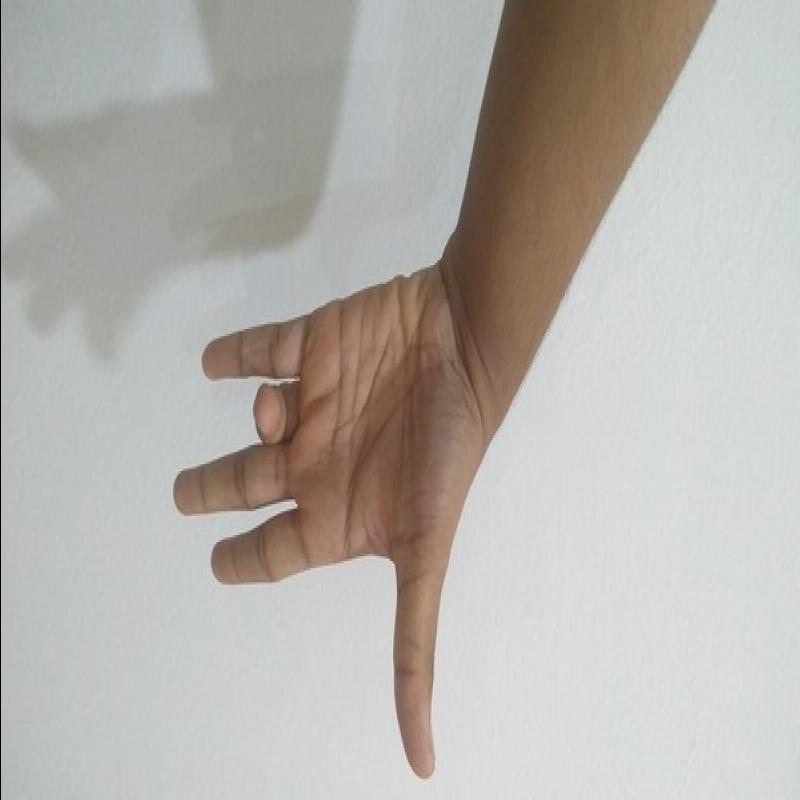Pathaaka: (157, 254, 509, 784)
